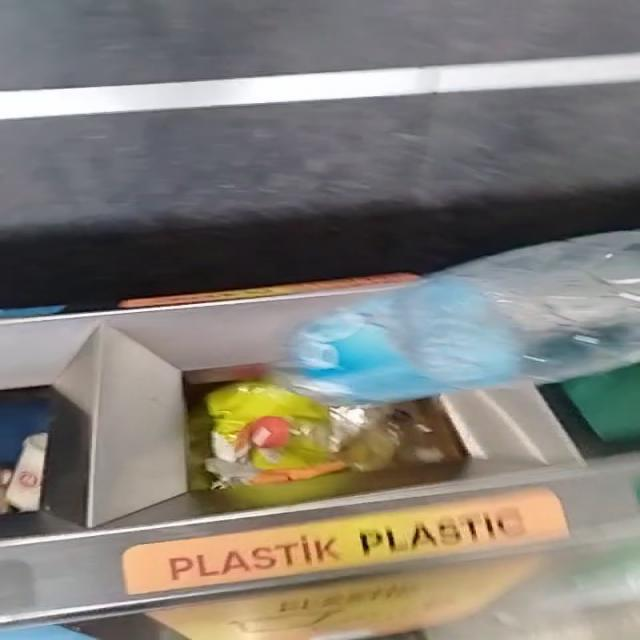Plastic: (279, 231, 640, 404)
